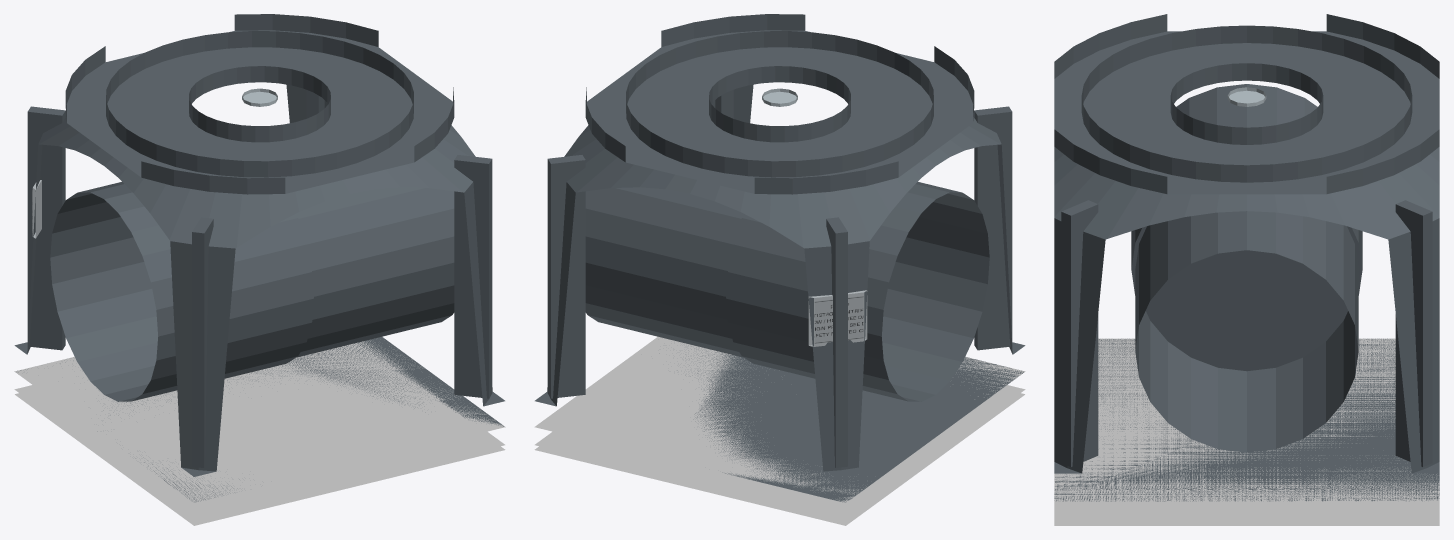
Rendered from cell_7.obj.
The picture shows the model from 3 angles, left to right: view 1: azimuth 30°, elevation 25°; view 2: azimuth 150°, elevation 25°; view 3: azimuth 270°, elevation 25°; orthographic projection. The views are drawn at different scales.
Size of the model in its own units: 1 by 1 by 1.
